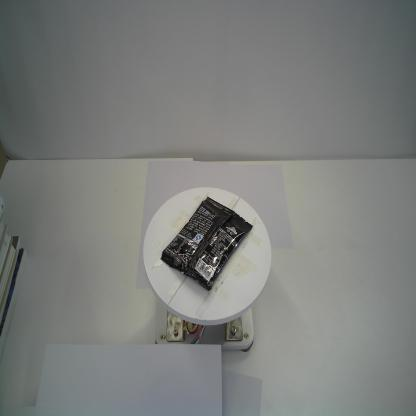Instant Drink: (160, 197, 253, 292)
